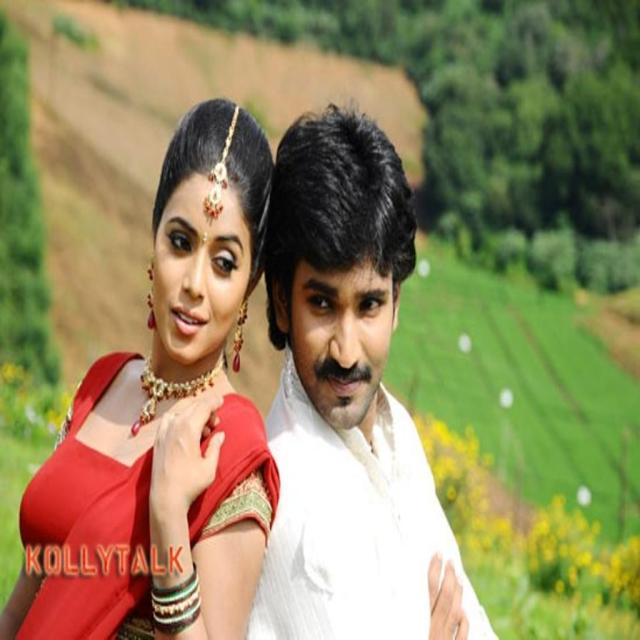Face: (291, 249, 397, 433), (152, 160, 246, 360)
